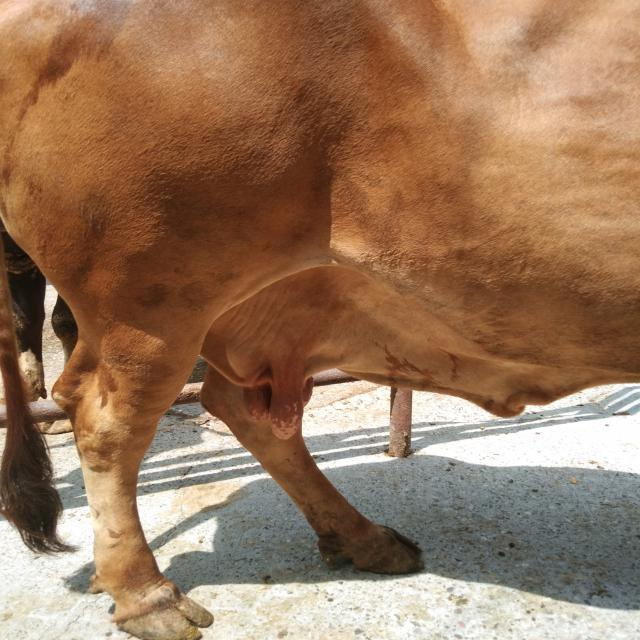Hoof: (111, 582, 214, 639), (317, 523, 425, 575)
